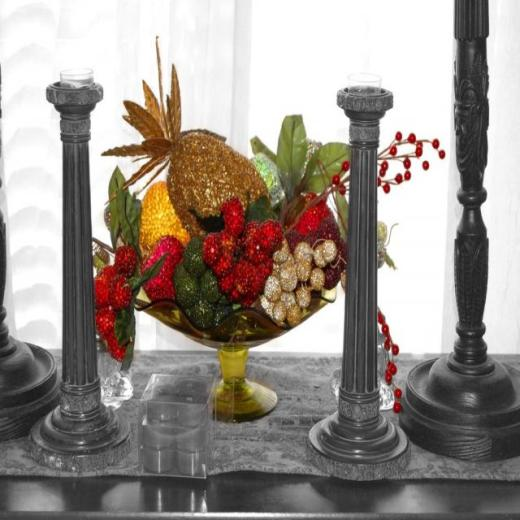Mango: (98, 32, 278, 239)
